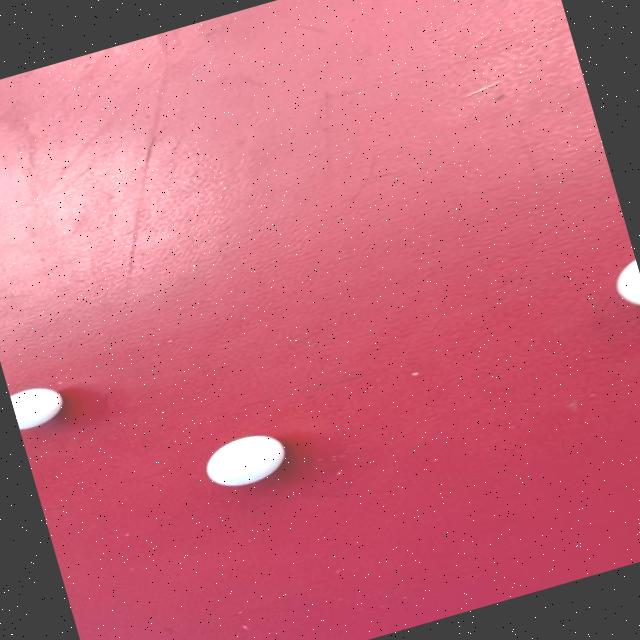ping-pong-ball: (184, 416, 308, 506), (8, 374, 80, 438), (594, 246, 640, 333)
